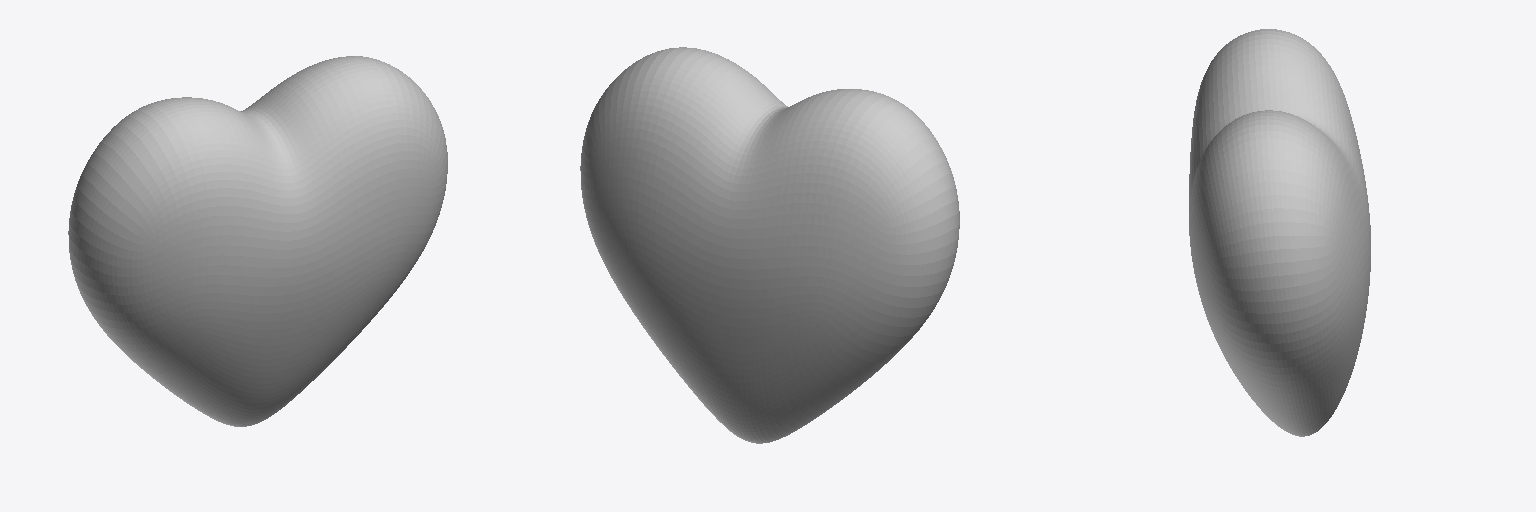
File: heart.obj
3 renders of one model, left to right at view 1: azimuth 30°, elevation 25°; view 2: azimuth 150°, elevation 25°; view 3: azimuth 270°, elevation 25°, orthographic.
Visible parts, largest first — view 1: Heart; view 2: Heart; view 3: Heart.
Boxes of the visible parts, x1,y1,x2,y2 form: Heart: [68, 56, 447, 426]; Heart: [580, 47, 959, 443]; Heart: [1189, 29, 1370, 436].
Size of the model in its own units: 21.25 by 19.81 by 9.26.